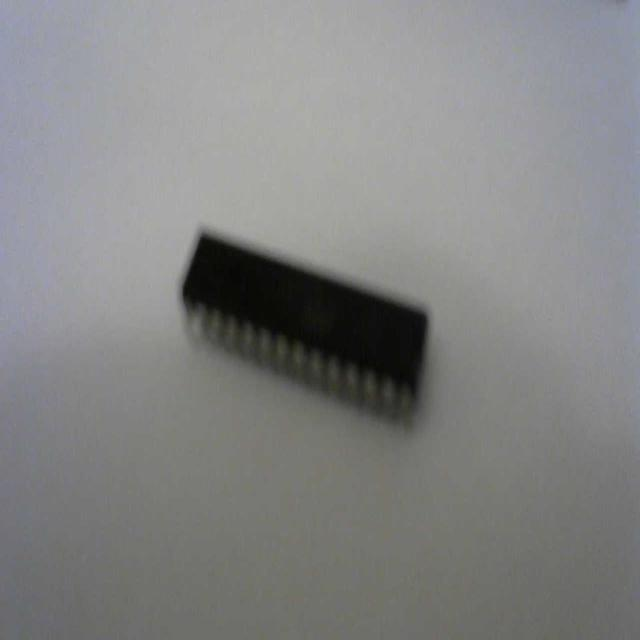atmega: (178, 222, 431, 428)
